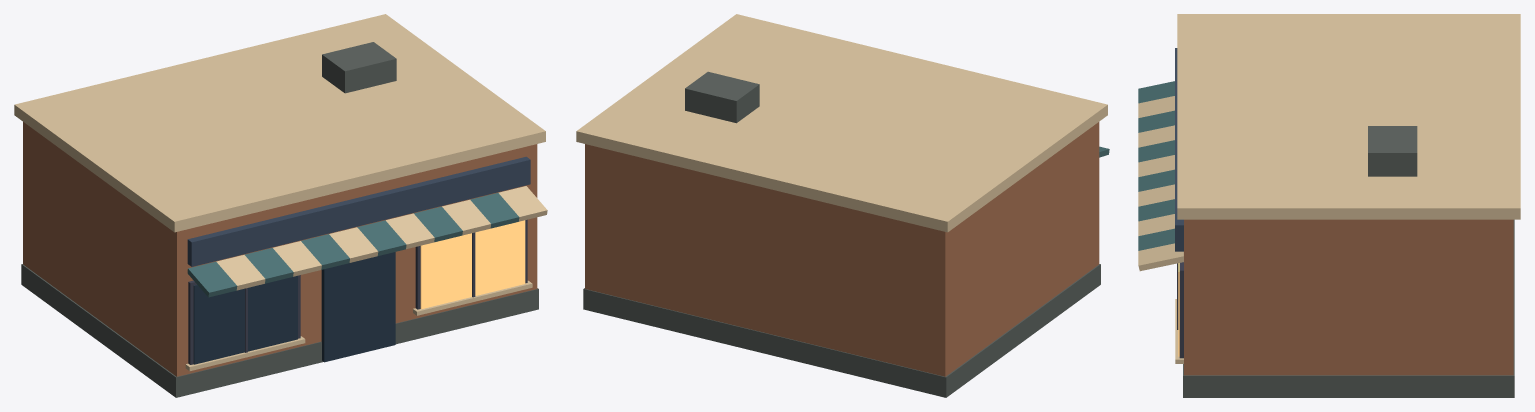
File: comercio_toldo.glb
3 renders of one model, left to right at view 1: azimuth 30°, elevation 25°; view 2: azimuth 150°, elevation 25°; view 3: azimuth 270°, elevation 25°, orthographic. The views are drawn at different scales.
Parts seen in each view (by area): view 1: comercio_toldo; view 2: comercio_toldo; view 3: comercio_toldo.
Part boxes in pixels (bbox=[...]): comercio_toldo: bbox=[14, 14, 547, 397]; comercio_toldo: bbox=[576, 14, 1109, 397]; comercio_toldo: bbox=[1138, 14, 1520, 397].
Size of the model in its own units: 9.48 by 4.91 by 7.88.
